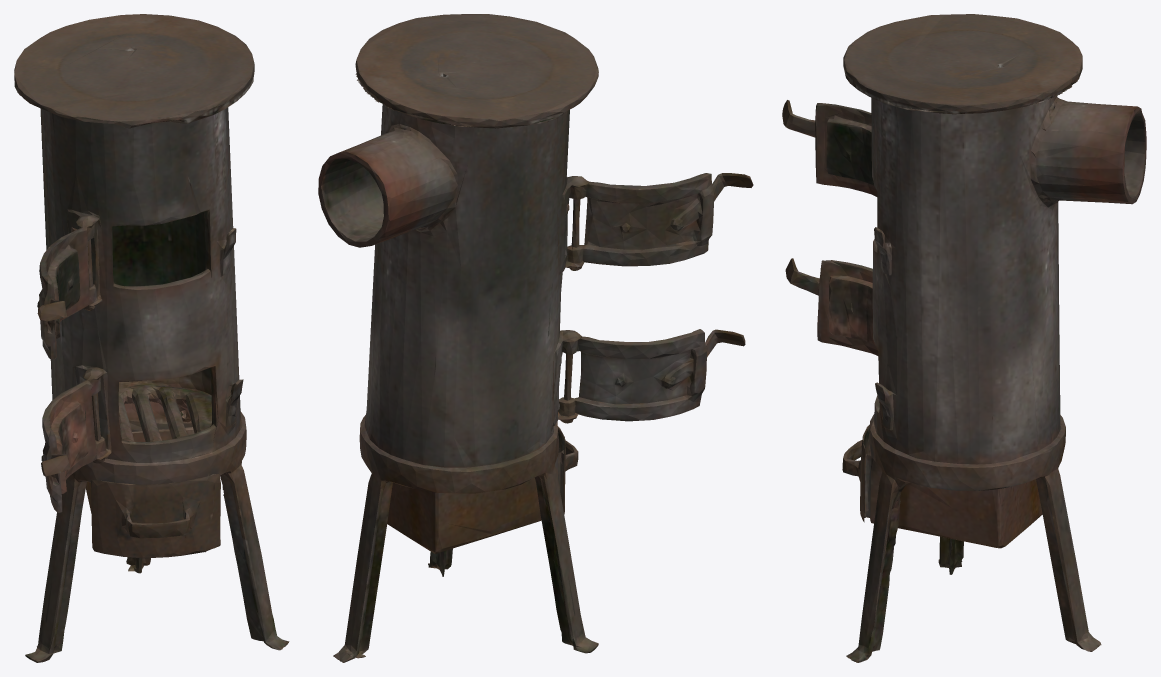
Rendered from 6420F1C4-1A3D-604E-8D42-9D9C5CDA2A9E_512.glb.
3 renders of one model, left to right at view 1: azimuth 30°, elevation 25°; view 2: azimuth 150°, elevation 25°; view 3: azimuth 270°, elevation 25°, orthographic.
Parts seen in each view (by area): view 1: Ofen_8k_0.5k; view 2: Ofen_8k_0.5k; view 3: Ofen_8k_0.5k.
Boxes of the visible parts, <box> form: Ofen_8k_0.5k: <box>14,14,289,662</box>; Ofen_8k_0.5k: <box>318,14,753,662</box>; Ofen_8k_0.5k: <box>782,14,1146,662</box>.
Bounding box in the file's own units: 0.3949 × 0.7358 × 0.434.
Materials: 1 (1 with a texture image).
